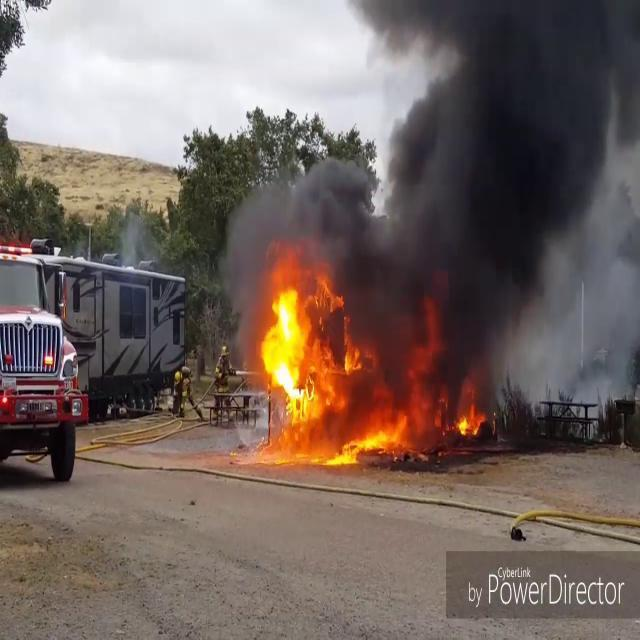Fire: (252, 261, 402, 466), (452, 398, 488, 444)
Smoke: (316, 1, 640, 376), (116, 199, 152, 274)
